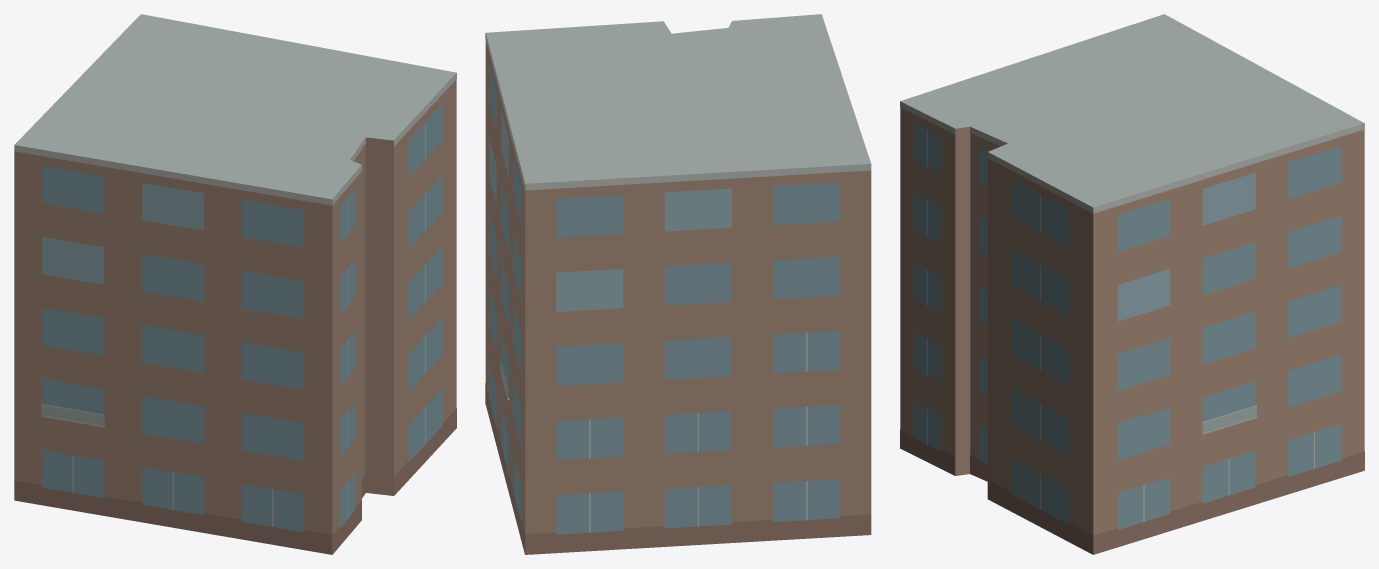
The model's file is survey-upis-32962081.glb.
3 renders of one model, left to right at view 1: azimuth 30°, elevation 25°; view 2: azimuth 150°, elevation 25°; view 3: azimuth 270°, elevation 25°, orthographic. The views are drawn at different scales.
Visible parts, largest first — view 1: survey-upis-32962081.tmp; view 2: survey-upis-32962081.tmp; view 3: survey-upis-32962081.tmp.
Part boxes in pixels (x1,y1,x2,y2): survey-upis-32962081.tmp: (14, 14, 456, 554); survey-upis-32962081.tmp: (485, 14, 871, 554); survey-upis-32962081.tmp: (900, 14, 1364, 554).
Bounding box in the file's own units: 16.38 × 13.7 × 16.62.
